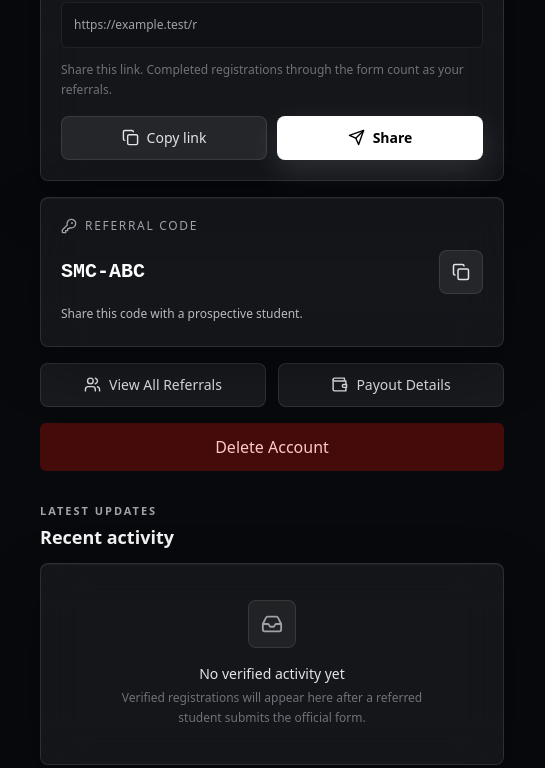
Test: dashboard › orders link before code and opens My Referrals
This screenshot has width=545, height=768.
(page scrolled)
Click the button "View All Referrals". click: (153, 384)
box: [40,362,266,406]
(page scrolled)
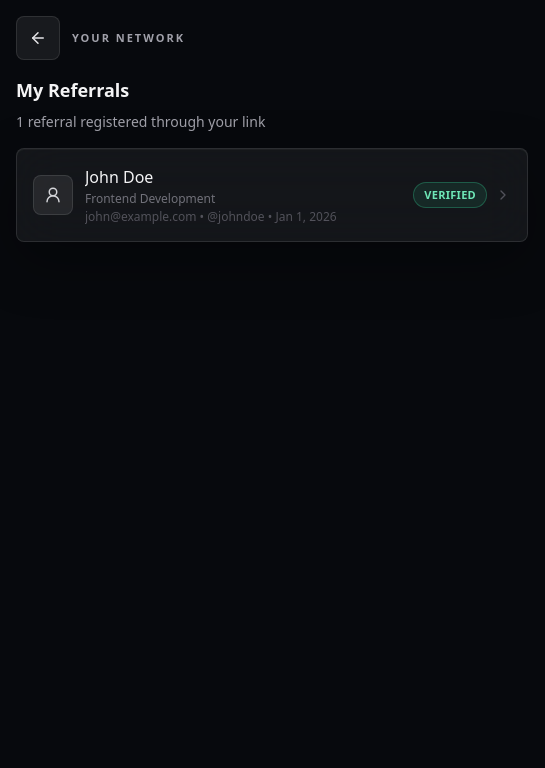
Expected: the text "verified" is shown, [413,182,487,208]
Expected: the text "John Doe" is shown, [85,166,153,188]
Expected: the text "Frontend Development" is shown, [85,190,215,207]
